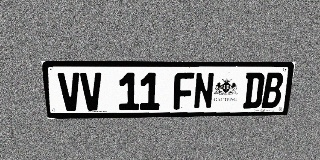1: (118, 72, 139, 110), (139, 72, 160, 110)
B: (261, 72, 284, 108)
D: (242, 72, 265, 109)
F: (173, 72, 194, 110)
N: (193, 72, 215, 109)
V: (57, 73, 82, 111), (80, 73, 103, 111)
